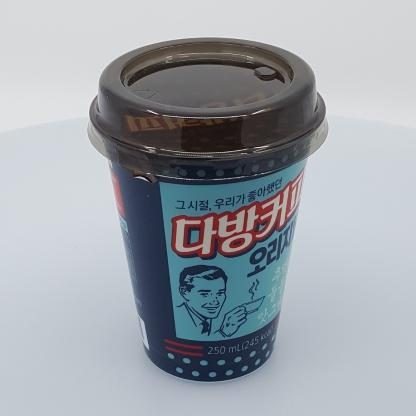----------: (87, 37, 328, 383)
